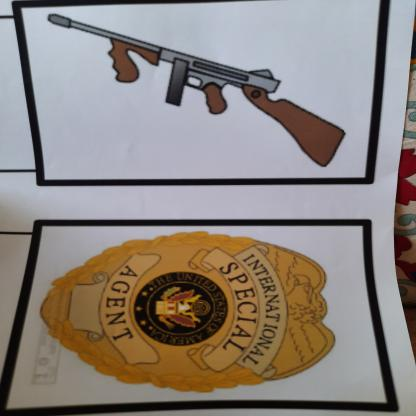Bootlegger: (28, 6, 359, 180)
G-man: (29, 229, 355, 402)
